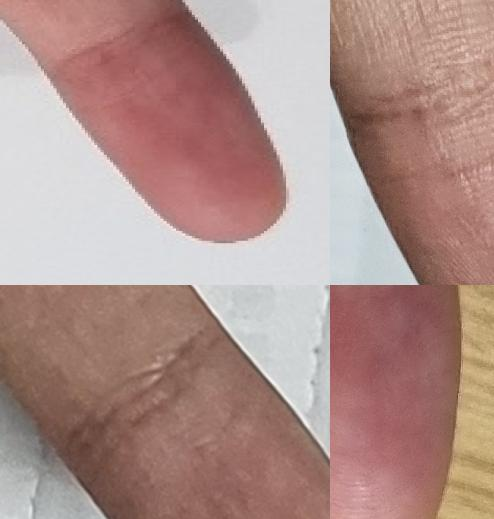Fingerprints: (48, 12, 289, 242), (80, 346, 330, 519), (330, 285, 463, 519), (345, 108, 494, 285)
